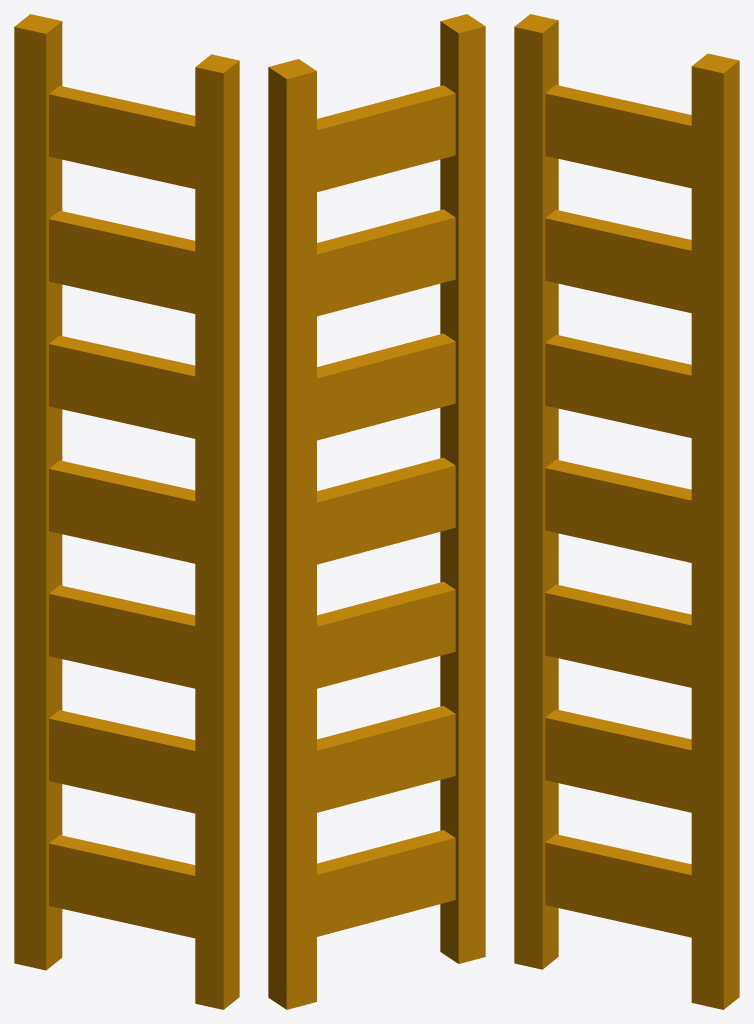
File: Escalera.glb
The picture shows the model from 3 angles, left to right: view 1: azimuth 90°, elevation 25°; view 2: azimuth 150°, elevation 25°; view 3: azimuth 270°, elevation 25°; orthographic projection.
Visible parts, largest first — view 1: Escalera; view 2: Escalera; view 3: Escalera.
Boxes of the visible parts, left/top/right/bottom form: Escalera: left=14, top=14, right=239, bottom=1009; Escalera: left=268, top=14, right=485, bottom=1009; Escalera: left=514, top=14, right=739, bottom=1009.
Size of the model in its own units: 0.4609 by 3.39 by 0.7386.
